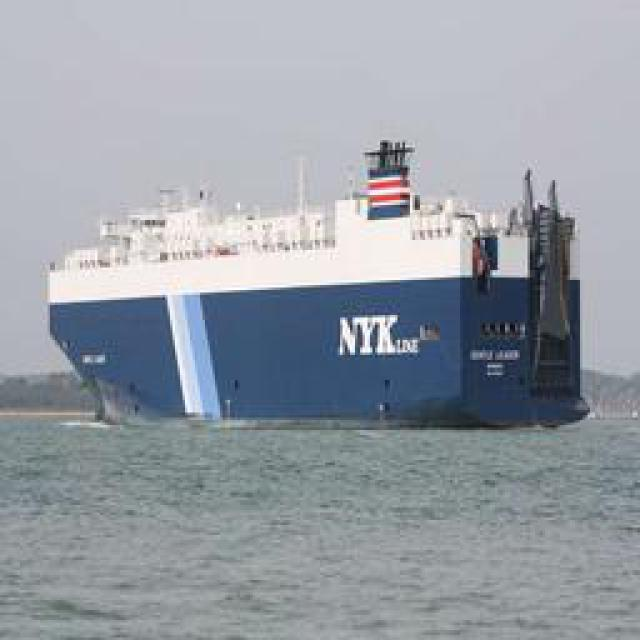Ship: (46, 136, 601, 424)
